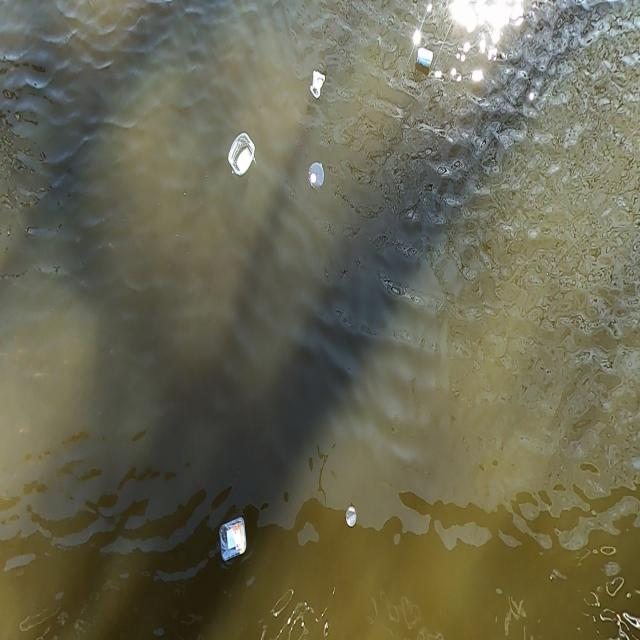Non plastique: (418, 48, 435, 72)
